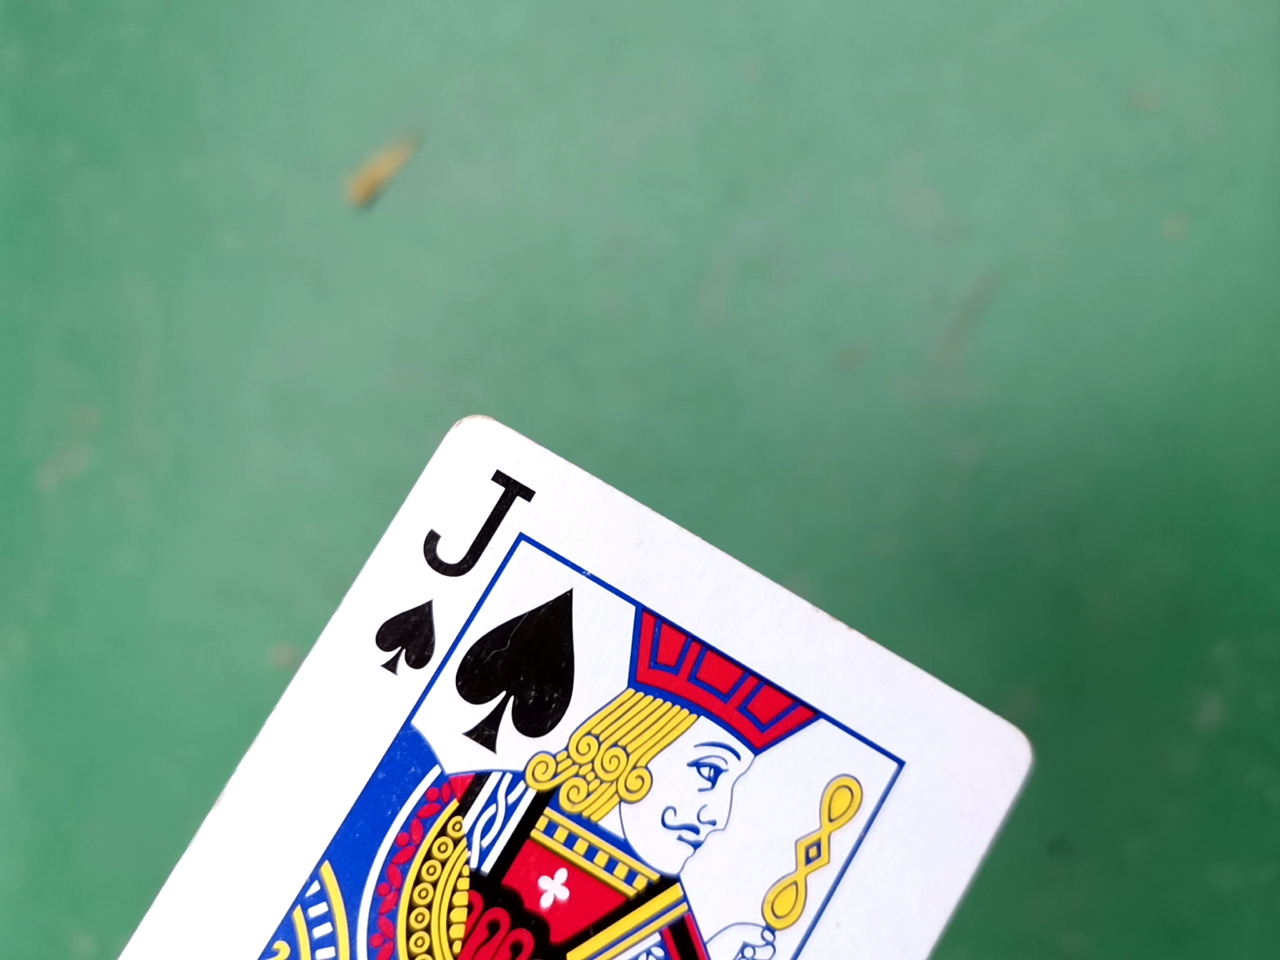ht j: (9, 404, 1039, 955)
